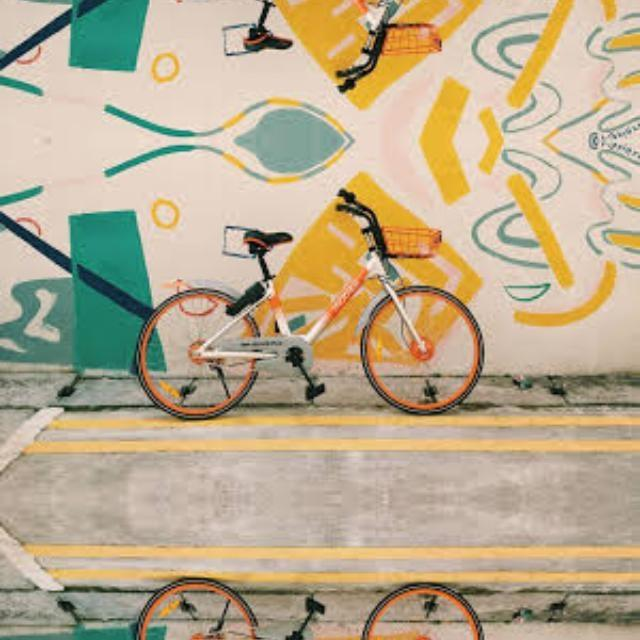obstacle: (104, 174, 522, 416), (103, 0, 522, 106), (103, 580, 522, 640)
